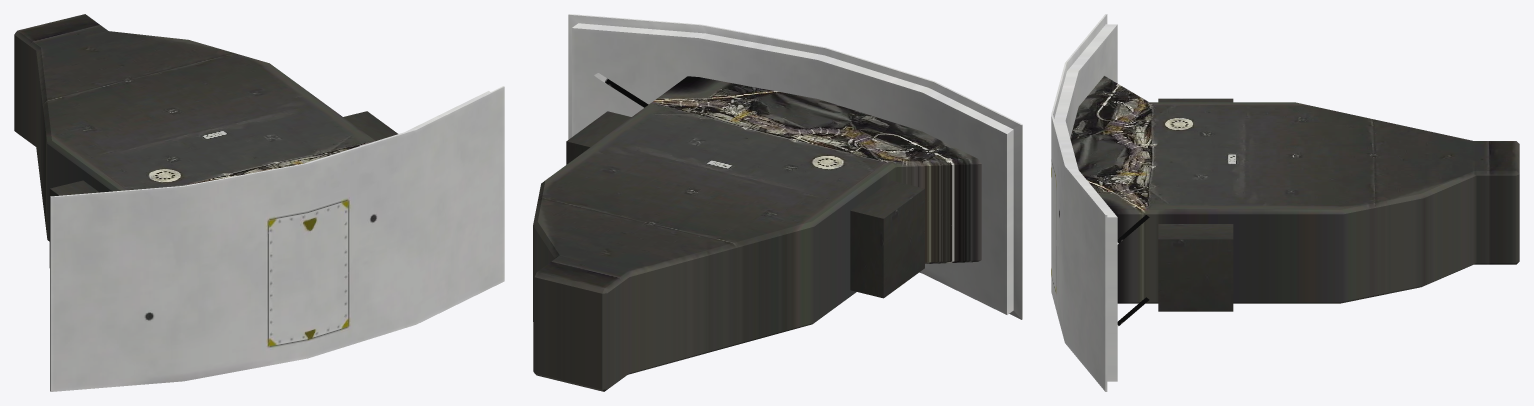
Rendered from wfpc.glb.
3 views of the same model, side by side, from view 1: azimuth 30°, elevation 25°; view 2: azimuth 150°, elevation 25°; view 3: azimuth 270°, elevation 25° (orthographic). The views are drawn at different scales.
Parts seen in each view (by area): view 1: hubbletele; view 2: hubbletele; view 3: hubbletele.
Part boxes in pixels (x1,y1,x2,y2): hubbletele: (14, 14, 504, 391); hubbletele: (533, 14, 1022, 391); hubbletele: (1051, 14, 1519, 391).
Bounding box in the file's own units: 2.2 × 0.9027 × 2.17.
1 material, 1 textured.
